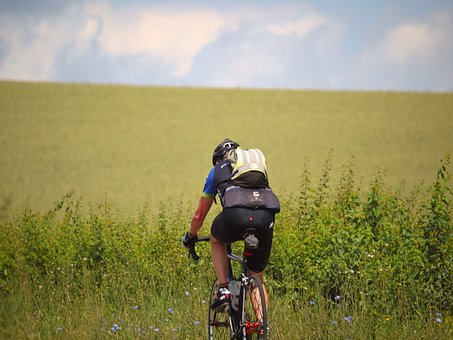bikerider: (187, 133, 290, 340)
